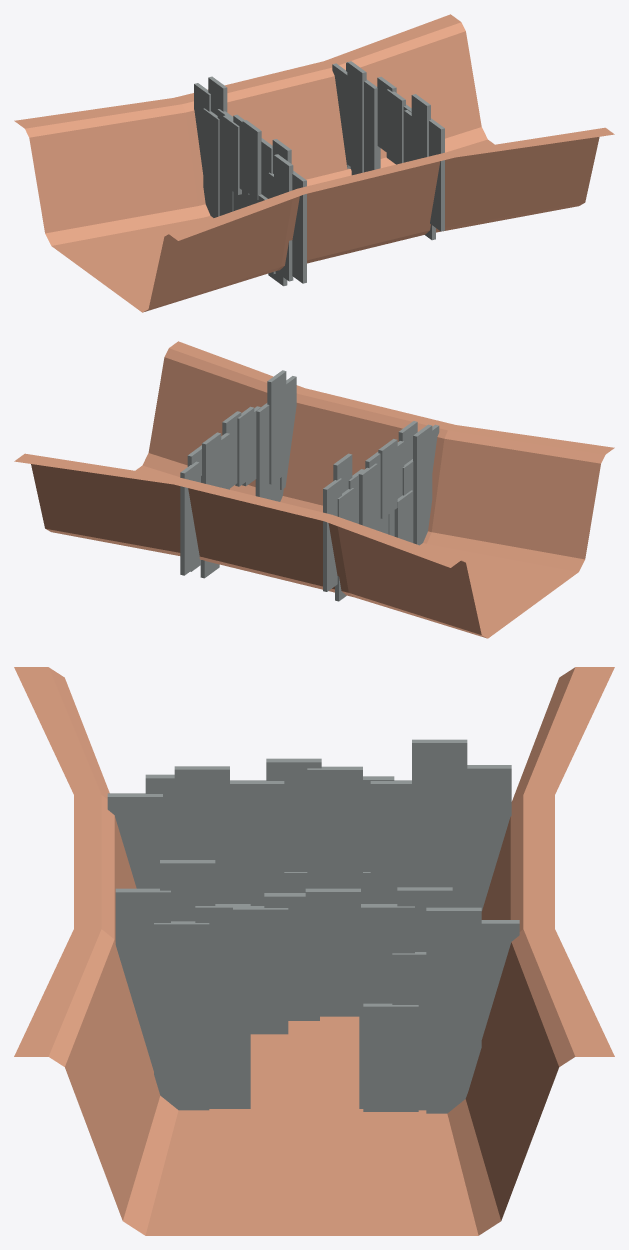
Rendered from walls.fbx.
3 renders of one model, top to bottom at view 1: azimuth 30°, elevation 25°; view 2: azimuth 150°, elevation 25°; view 3: azimuth 270°, elevation 25°, orthographic. The views are drawn at different scales.
Parts seen in each view (by area): view 1: Canyon01, pCube9, pCube1.001, pCube11.001, pCube10.001, pCube12.001, pCube13, pCube5, pCube2, pCube4, pCube8.001, pCube10 (+5 smaller); view 2: Canyon01, pCube8.001, pCube4, pCube10, pCube3, pCube2.001, pCube11.001, pCube13, pCube12.001, pCube9, pCube6.001, pCube2 (+7 smaller); view 3: Canyon01, pCube8, pCube1, pCube4.001, pCube11, pCube12, pCube13.001, pCube5.001, pCube3, pCube6, pCube9.001, pCube2 (+13 smaller).
Boxes of the visible parts, box(x1,y1,x2,y2) form: Canyon01: box(14, 14, 614, 312); pCube9: box(347, 61, 366, 173); pCube1.001: box(203, 108, 219, 217); pCube11.001: box(242, 120, 261, 199); pCube10.001: box(292, 171, 306, 283); pCube12.001: box(222, 115, 241, 194); pCube13: box(386, 89, 405, 164); pCube5: box(364, 79, 378, 172); pCube2: box(429, 118, 444, 231); pCube4: box(411, 94, 430, 160); pCube8.001: box(274, 154, 293, 281); pCube10: box(332, 63, 350, 168); Canyon01: box(14, 341, 614, 638); pCube8.001: box(413, 424, 432, 545); pCube4: box(267, 370, 286, 484); pCube10: box(180, 461, 199, 575); pCube3: box(255, 403, 274, 500); pCube2.001: box(323, 478, 341, 591); pCube11.001: box(378, 439, 397, 518); pCube13: box(235, 406, 254, 486); pCube12.001: box(358, 463, 377, 530); pCube9: box(202, 432, 221, 487); pCube6.001: box(394, 490, 413, 542); pCube2: box(280, 376, 296, 489); Canyon01: box(14, 667, 614, 1235); pCube8: box(426, 907, 481, 1113); pCube1: box(154, 921, 209, 1110); pCube4.001: box(412, 739, 467, 907); pCube11: box(305, 888, 360, 1016); pCube12: box(233, 906, 288, 1034); pCube13.001: box(307, 766, 362, 894); pCube5.001: box(230, 780, 284, 905); pCube3: box(195, 904, 250, 1108); pCube6: box(363, 1003, 418, 1111); pCube9.001: box(174, 766, 229, 903); pCube2: box(115, 888, 170, 1070).
Size of the model in its own units: 10849 by 3574 by 7070.
